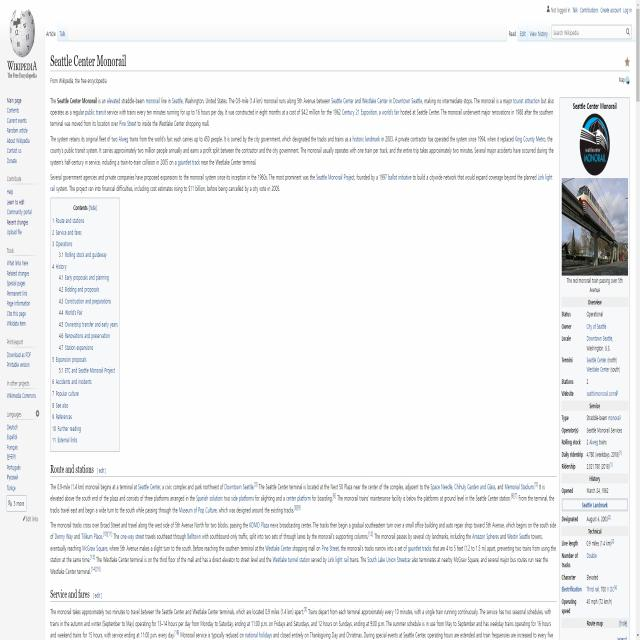search: (551, 23, 632, 39)
side-panel: (558, 96, 630, 640)
tab-bar: (507, 26, 549, 41), (44, 25, 68, 41)
